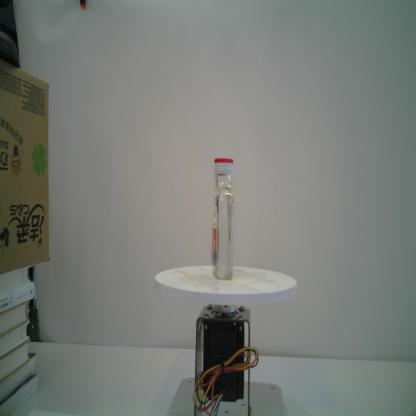Alcohol: (210, 158, 235, 280)
